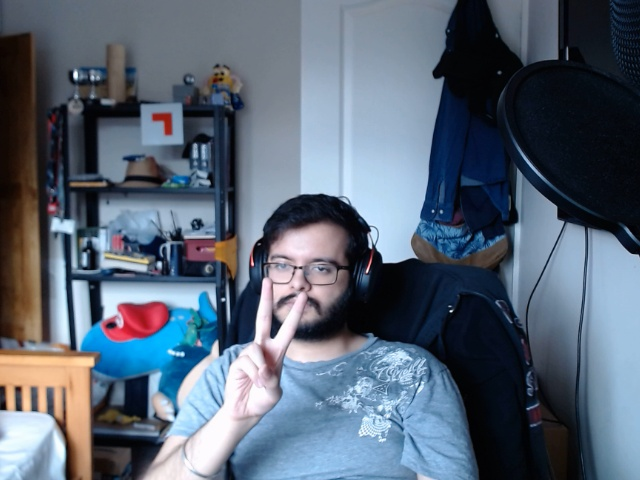Peace: (203, 273, 320, 427)
